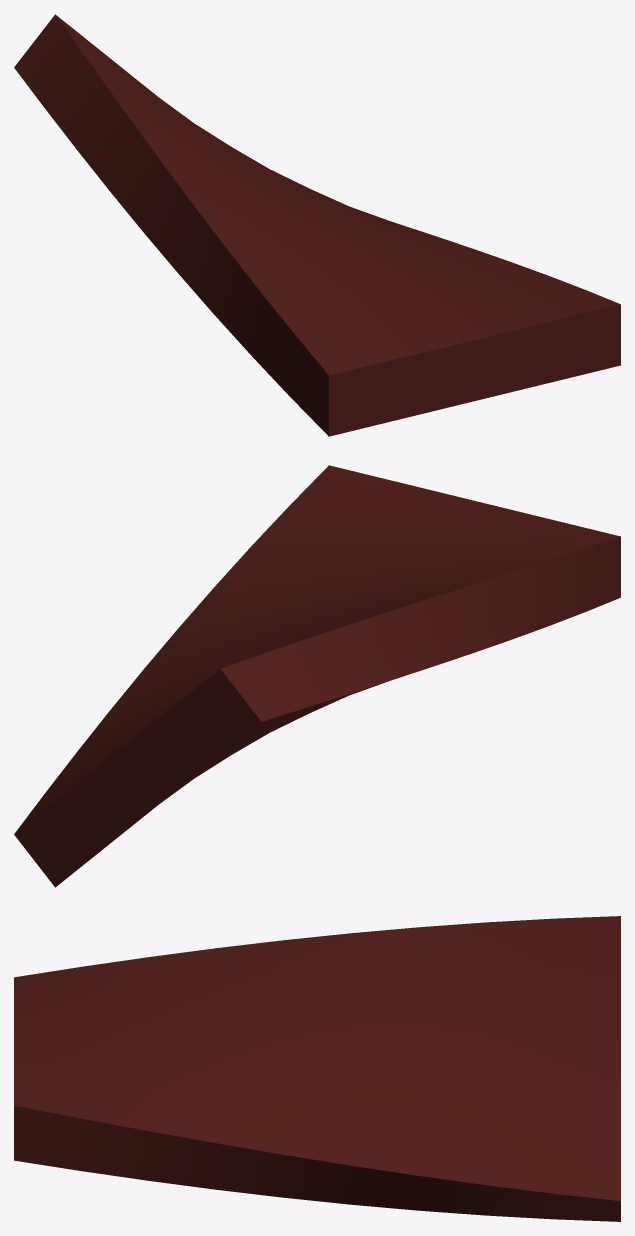
File: vox_road_twistright.fbx
3 renders of one model, top to bottom at view 1: azimuth 30°, elevation 25°; view 2: azimuth 150°, elevation 25°; view 3: azimuth 270°, elevation 25°, orthographic. The views are drawn at different scales.
Visible parts, largest first — view 1: Cube.002; view 2: Cube.002; view 3: Cube.002.
Boxes of the visible parts, <box> form: Cube.002: <box>14,14,620,436</box>; Cube.002: <box>14,465,620,887</box>; Cube.002: <box>14,916,620,1221</box>.
Size of the model in its own units: 65.25 by 54.31 by 128.
